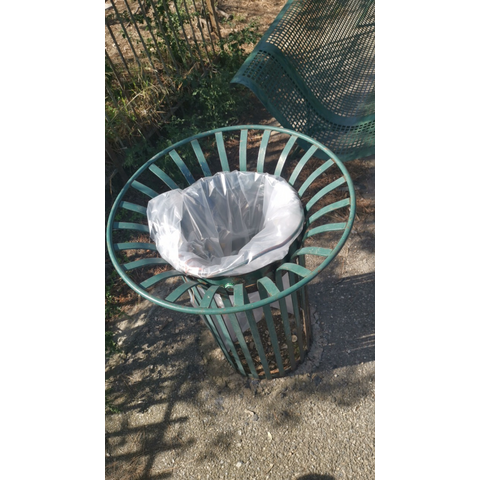poubelle: (107, 121, 355, 386)
